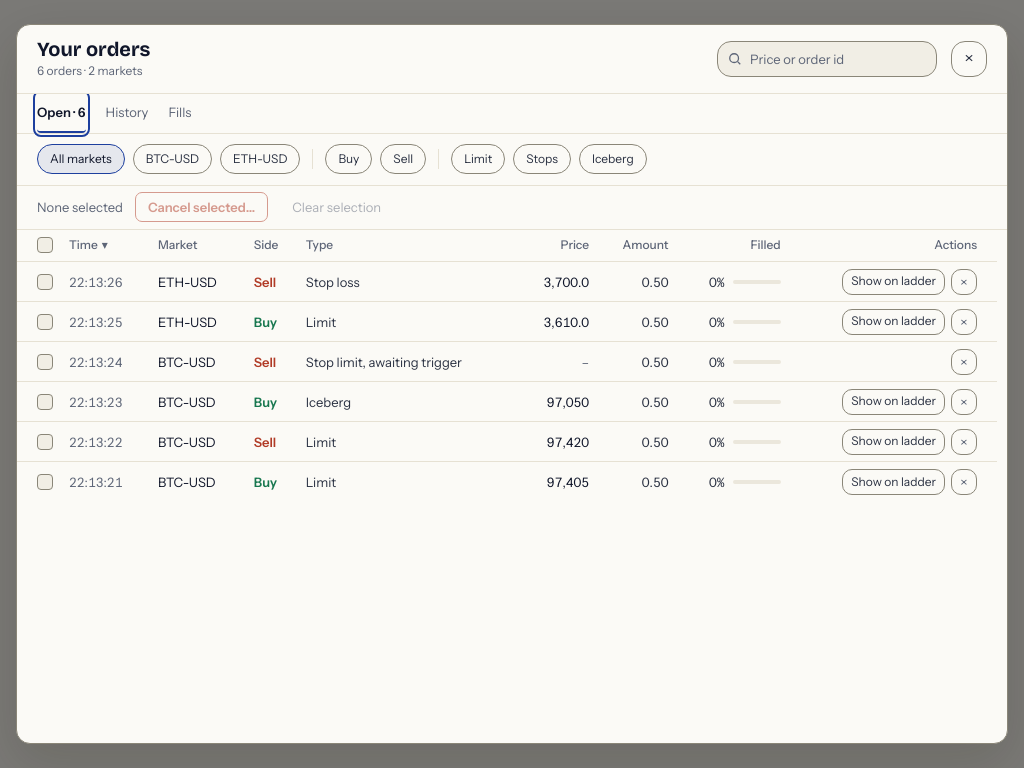
AllOrdersDialog: Open tab › a failed run keeps the failed rows selected and says why
The image size is (1024, 768).
Click the checkbox named "Select Buy 0.50 ETH-USD at 3,610.0" at (45,322), box [37,314,53,330]
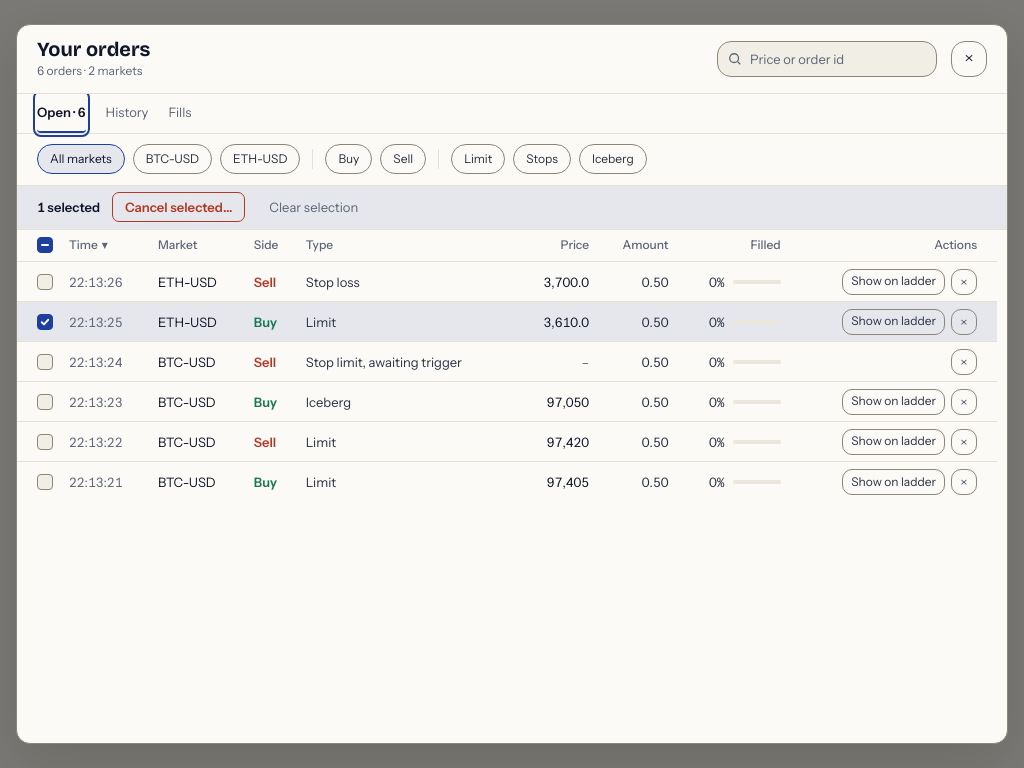
Click the checkbox named "Select Buy 0.50 BTC-USD at 97,405" at (45,482), box [37,474,53,490]
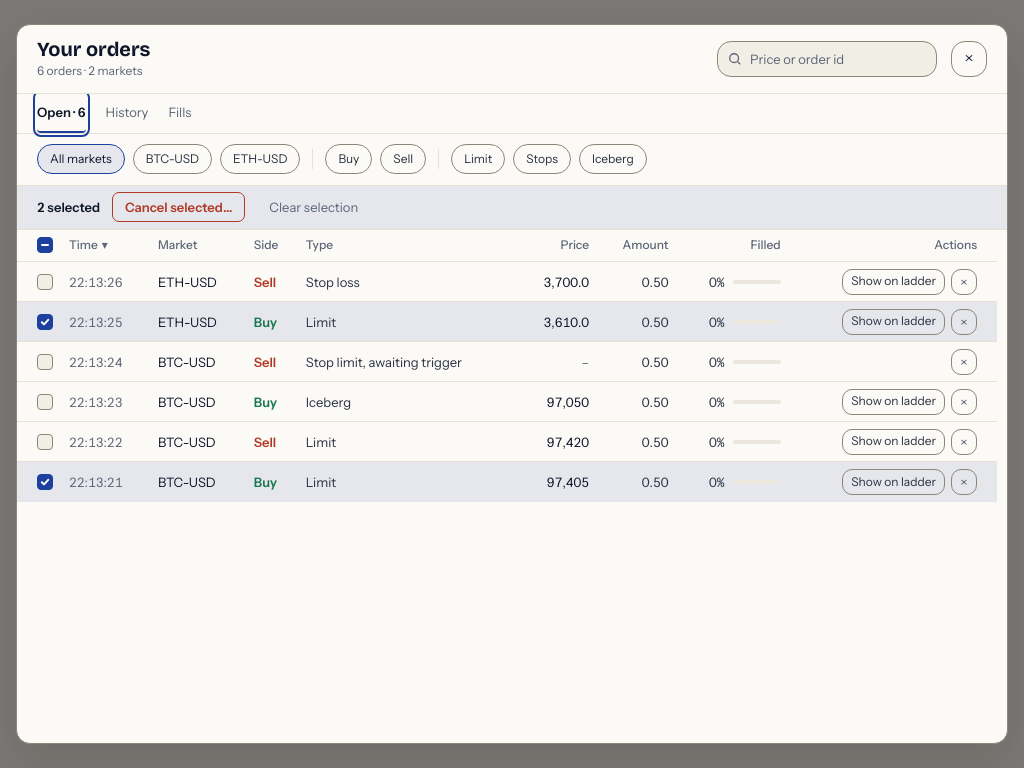
Click the button "Cancel selected…" at (179,207), box [112,192,245,222]
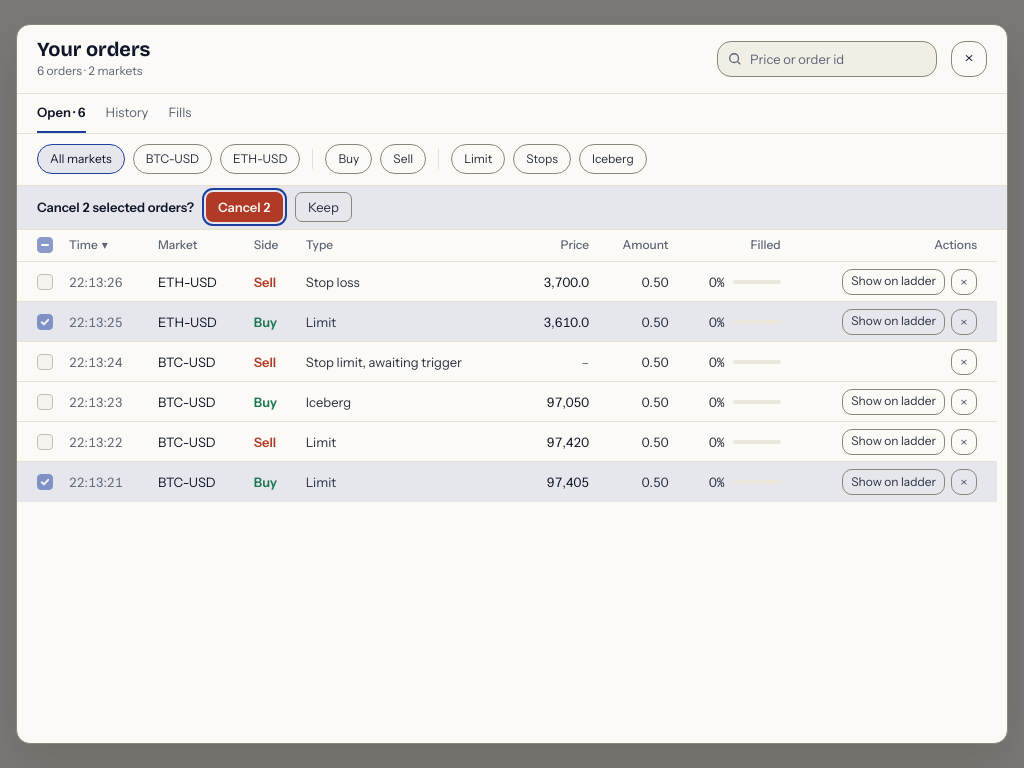
Click the button "Cancel 2" at (244,207), box [206,192,283,222]
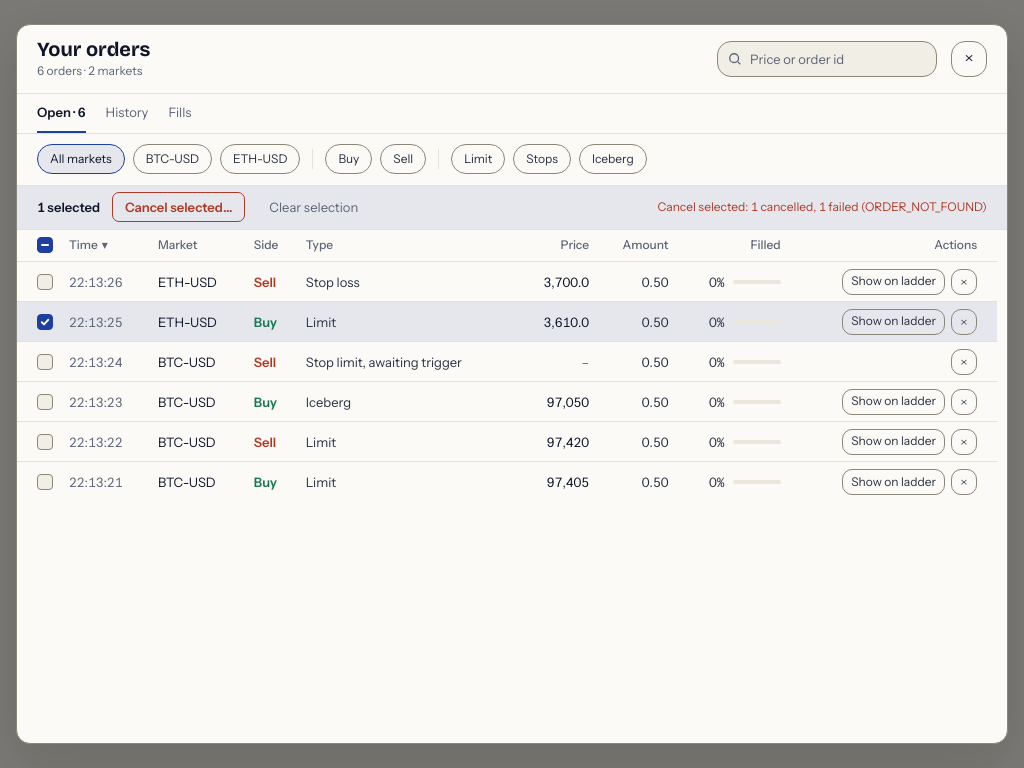
Check: the checkbox named "Select Buy 0.50 ETH-USD at 3,610.0" is checked, box [37,314,53,330]
Check: the text "Cancel selected: 1 cancelled, 1 failed (ORDER_NOT_FOUND)" is shown, box [658,198,987,216]
Check: the text "1 selected" is shown, box [37,197,100,217]
